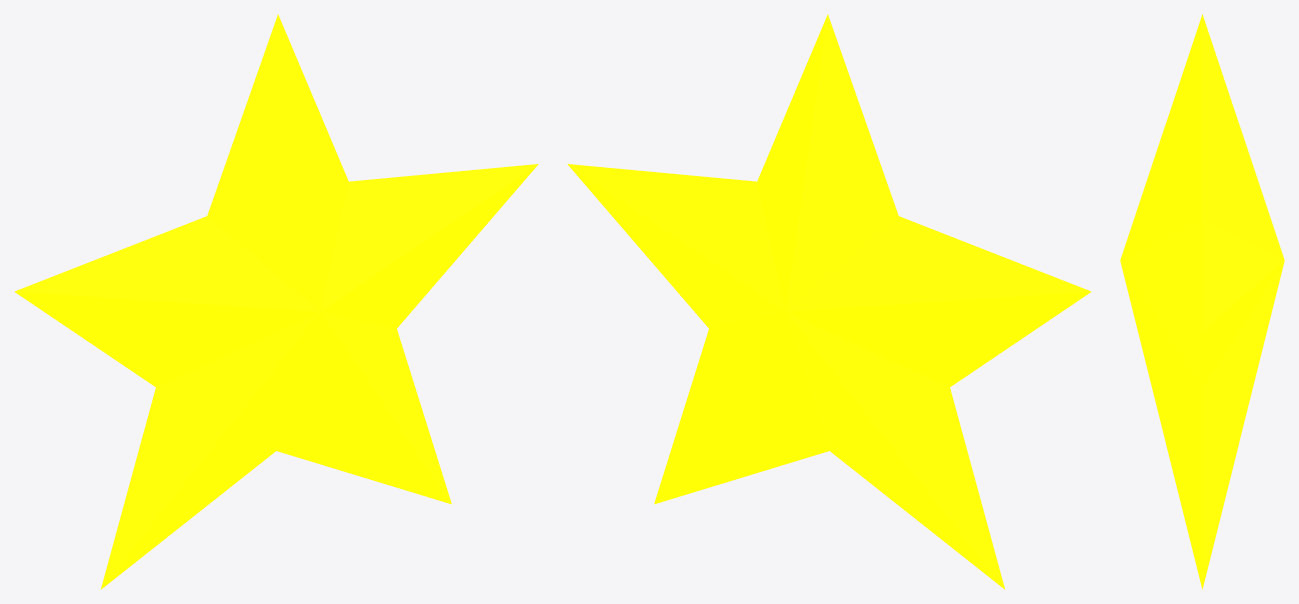
The picture shows the model from 3 angles, left to right: view 1: azimuth 30°, elevation 25°; view 2: azimuth 150°, elevation 25°; view 3: azimuth 270°, elevation 25°; orthographic projection. The views are drawn at different scales.
Visible parts, largest first — view 1: Cone; view 2: Cone; view 3: Cone.
Boxes of the visible parts, bbox=[...] form: Cone: bbox=[14, 14, 538, 589]; Cone: bbox=[567, 14, 1091, 589]; Cone: bbox=[1120, 14, 1284, 589].
Bounding box in the file's own units: 6.87 × 6.66 × 2.
